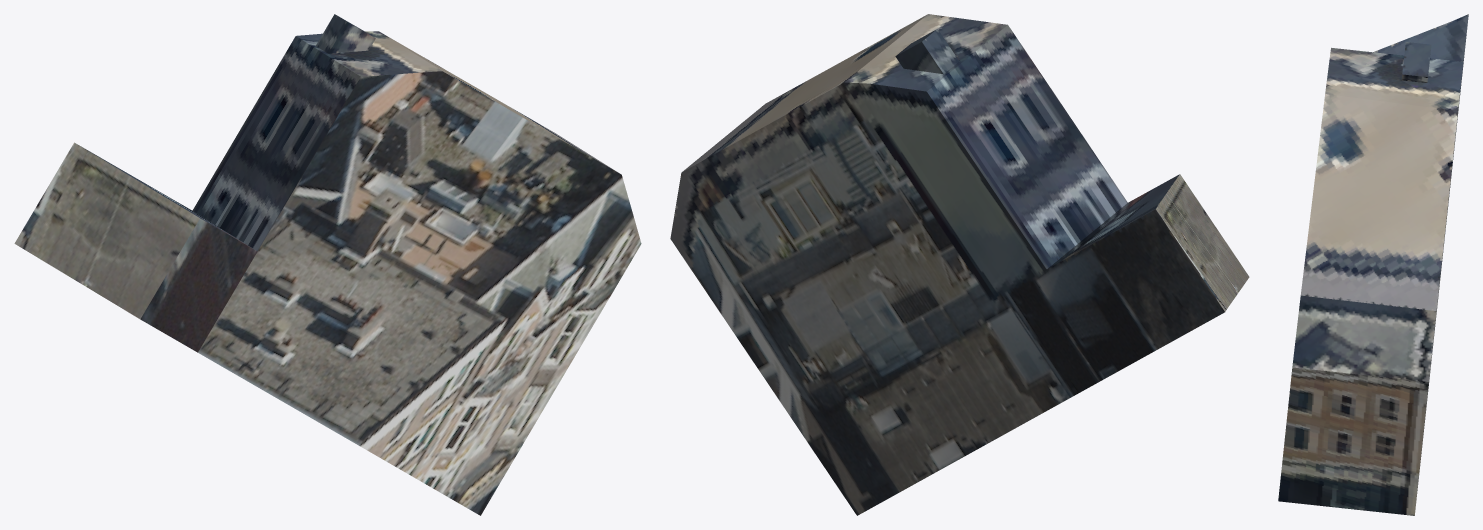
3 renders of one model, left to right at view 1: azimuth 30°, elevation 25°; view 2: azimuth 150°, elevation 25°; view 3: azimuth 270°, elevation 25°, orthographic. The views are drawn at different scales.
Parts seen in each view (by area): view 1: BAG_0599100000671730 (×3); view 2: BAG_0599100000671730 (×3); view 3: BAG_0599100000671730 (×4).
Boxes of the visible parts, x1,y1,x2,y2 form: BAG_0599100000671730 (×3): (14, 14, 641, 515); BAG_0599100000671730 (×3): (670, 14, 1249, 515); BAG_0599100000671730 (×4): (1278, 14, 1468, 515).
Bounding box in the file's own units: 25.38 × 21.18 × 8.28.
Materials: 6 (5 with a texture image).
